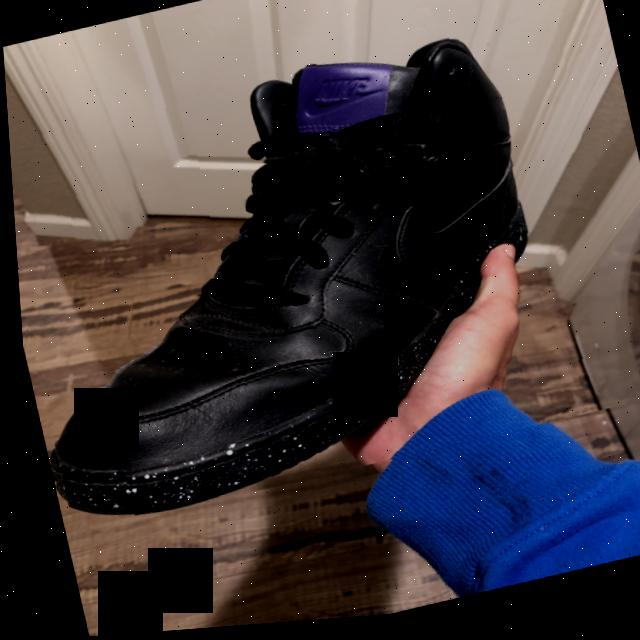shoe: (1, 0, 640, 537)
